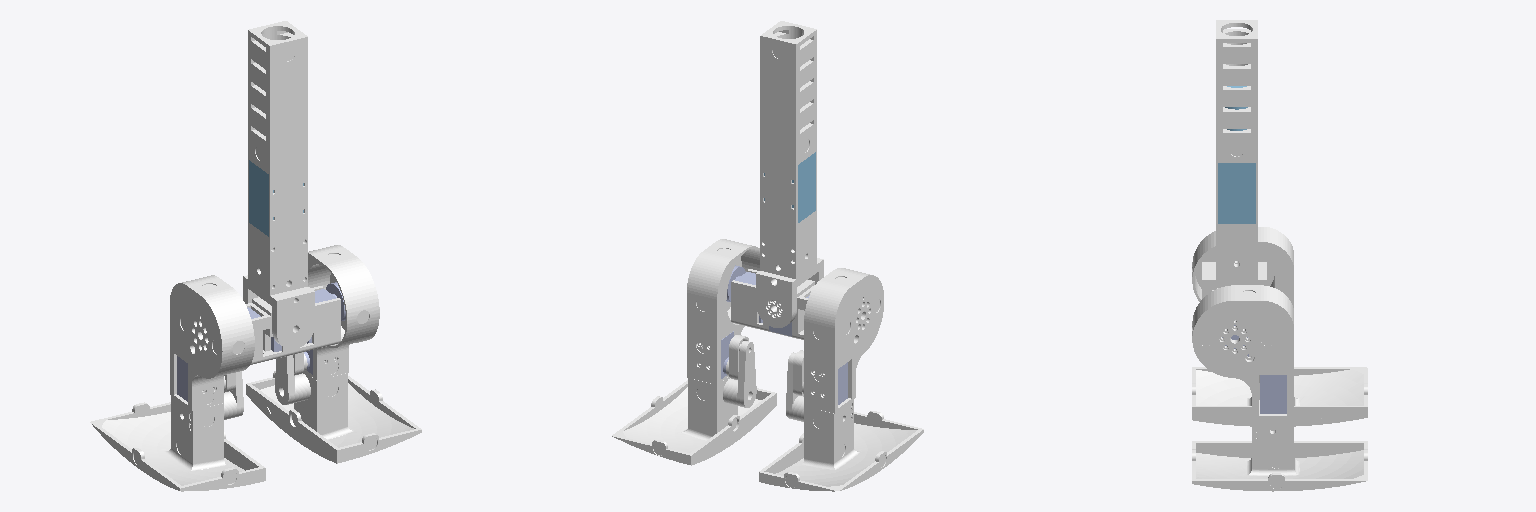
robot.urdf — pengu1_05:
<?xml version="1.0" ?>
<!-- Generated using onshape-to-robot -->
<!-- Onshape https://cad.onshape.com/documents/af9a366decc160f668eeab8a/w/240dda95e8c00a87d53a39cb/e/3a00180f1f1236d2a817e06b -->
<robot name="pengu1_05">
  <!-- Link leftthighmotor -->
  <link name="leftthighmotor">
    <inertial>
      <origin xyz="-0.0738509 0.0105397 -0.0475118" rpy="0 0 0"/>
      <mass value="0.207745"/>
      <inertia ixx="0.000560286" ixy="-1.37754e-05" ixz="2.42754e-05" iyy="0.000484471" iyz="6.34348e-05" izz="0.000126076"/>
    </inertial>
    <!-- Part easymotor -->
    <visual>
      <origin xyz="-0.08825 0.03128 -0.0885124" rpy="0 -2.718e-09 -1.5708"/>
      <geometry>
        <mesh filename="package://assets/easymotor.stl"/>
      </geometry>
      <material name="easymotor_material">
        <color rgba="0.796078 0.823529 0.937255 1"/>
      </material>
    </visual>
    <collision>
      <origin xyz="-0.08825 0.03128 -0.0885124" rpy="0 -2.718e-09 -1.5708"/>
      <geometry>
        <mesh filename="package://assets/easymotor.stl"/>
      </geometry>
    </collision>
    <!-- Part left_thigh -->
    <visual>
      <origin xyz="-0.0799204 -0.0680094 -0.0260901" rpy="1.5708 0 -3.14159"/>
      <geometry>
        <mesh filename="package://assets/left_thigh.stl"/>
      </geometry>
      <material name="left_thigh_material">
        <color rgba="1 1 1 1"/>
      </material>
    </visual>
    <collision>
      <origin xyz="-0.0799204 -0.0680094 -0.0260901" rpy="1.5708 0 -3.14159"/>
      <geometry>
        <mesh filename="package://assets/left_thigh.stl"/>
      </geometry>
    </collision>
  </link>
  <!-- Link easyaxis -->
  <link name="easyaxis">
    <inertial>
      <origin xyz="-0.0102715 0.000501152 -0.06925" rpy="0 0 0"/>
      <mass value="0.345637"/>
      <inertia ixx="0.000733205" ixy="6.32805e-07" ixz="-0" iyy="0.000773915" iyz="0" izz="0.000118176"/>
    </inertial>
    <!-- Part pengu2axis010 -->
    <visual>
      <origin xyz="0.0165 0.0195 -0.04875" rpy="1.5708 1.5708 0"/>
      <geometry>
        <mesh filename="package://assets/pengu2axis010.stl"/>
      </geometry>
      <material name="pengu2axis010_material">
        <color rgba="1 1 1 1"/>
      </material>
    </visual>
    <collision>
      <origin xyz="0.0165 0.0195 -0.04875" rpy="1.5708 1.5708 0"/>
      <geometry>
        <mesh filename="package://assets/pengu2axis010.stl"/>
      </geometry>
    </collision>
    <!-- Part easymotorwithconnector -->
    <visual>
      <origin xyz="0.011 -0.01425 -0.0965" rpy="-1.5708 -0 1.5708"/>
      <geometry>
        <mesh filename="package://assets/easymotorwithconnector.stl"/>
      </geometry>
      <material name="easymotorwithconnector_material">
        <color rgba="0.796078 0.823529 0.937255 1"/>
      </material>
    </visual>
    <collision>
      <origin xyz="0.011 -0.01425 -0.0965" rpy="-1.5708 -0 1.5708"/>
      <geometry>
        <mesh filename="package://assets/easymotorwithconnector.stl"/>
      </geometry>
    </collision>
    <!-- Part easymotorwithconnector_2 -->
    <visual>
      <origin xyz="0.011 0.01425 -0.042" rpy="1.5708 -0 -1.5708"/>
      <geometry>
        <mesh filename="package://assets/easymotorwithconnector.stl"/>
      </geometry>
      <material name="easymotorwithconnector_2_material">
        <color rgba="0.796078 0.823529 0.937255 1"/>
      </material>
    </visual>
    <collision>
      <origin xyz="0.011 0.01425 -0.042" rpy="1.5708 -0 -1.5708"/>
      <geometry>
        <mesh filename="package://assets/easymotorwithconnector.stl"/>
      </geometry>
    </collision>
    <!-- Part easymotor_2 -->
    <visual>
      <origin xyz="0.011 -0.01478 -0.0835" rpy="-2.718e-09 -1.5708 0"/>
      <geometry>
        <mesh filename="package://assets/easymotor.stl"/>
      </geometry>
      <material name="easymotor_2_material">
        <color rgba="0.796078 0.823529 0.937255 1"/>
      </material>
    </visual>
    <collision>
      <origin xyz="0.011 -0.01478 -0.0835" rpy="-2.718e-09 -1.5708 0"/>
      <geometry>
        <mesh filename="package://assets/easymotor.stl"/>
      </geometry>
    </collision>
  </link>
  <!-- Link rightthighmotor -->
  <link name="rightthighmotor">
    <inertial>
      <origin xyz="0.0336636 -0.0475118 -0.000899096" rpy="0 0 0"/>
      <mass value="0.207745"/>
      <inertia ixx="0.000484471" ixy="6.30739e-05" ixz="1.37137e-05" iyy="0.00012582" iyz="-2.42754e-05" izz="0.00056003"/>
    </inertial>
    <!-- Part easymotor_3 -->
    <visual>
      <origin xyz="0.02575 -0.0885124 0.0135" rpy="-1.5708 -0 -4.905e-09"/>
      <geometry>
        <mesh filename="package://assets/easymotor.stl"/>
      </geometry>
      <material name="easymotor_3_material">
        <color rgba="0.796078 0.823529 0.937255 1"/>
      </material>
    </visual>
    <collision>
      <origin xyz="0.02575 -0.0885124 0.0135" rpy="-1.5708 -0 -4.905e-09"/>
      <geometry>
        <mesh filename="package://assets/easymotor.stl"/>
      </geometry>
    </collision>
    <!-- Part right_thigh -->
    <visual>
      <origin xyz="-0 0 0.0155" rpy="4.905e-09 1.5708 0"/>
      <geometry>
        <mesh filename="package://assets/right_thigh.stl"/>
      </geometry>
      <material name="right_thigh_material">
        <color rgba="1 1 1 1"/>
      </material>
    </visual>
    <collision>
      <origin xyz="-0 0 0.0155" rpy="4.905e-09 1.5708 0"/>
      <geometry>
        <mesh filename="package://assets/right_thigh.stl"/>
      </geometry>
    </collision>
  </link>
  <!-- Link right_foot0080 -->
  <link name="right_foot0080">
    <inertial>
      <origin xyz="0.00309728 -0.00816562 -0.0519937" rpy="0 0 0"/>
      <mass value="0.149685"/>
      <inertia ixx="0.000166324" ixy="1.24008e-06" ixz="2.46733e-06" iyy="0.000359285" iyz="-8.22166e-06" izz="0.000426047"/>
    </inertial>
    <!-- Part right_foot0080 -->
    <visual>
      <origin xyz="-0.000764396 0.032498 0.0472219" rpy="-1.5708 -1.5708 0"/>
      <geometry>
        <mesh filename="package://assets/right_foot0080.stl"/>
      </geometry>
      <material name="right_foot0080_material">
        <color rgba="1 1 1 1"/>
      </material>
    </visual>
    <collision>
      <origin xyz="-0.000764396 0.032498 0.0472219" rpy="-1.5708 -1.5708 0"/>
      <geometry>
        <mesh filename="package://assets/right_foot0080.stl"/>
      </geometry>
    </collision>
  </link>
  <!-- Frame closing_crank3-R_2 (dummy link + fixed joint) -->
  <link name="closing_crank3-R_2">
    <origin xyz="0 0 0" rpy="0 -0 0"/>
    <inertial>
      <origin xyz="0 0 0" rpy="0 0 0"/>
      <mass value="1e-9"/>
      <inertia ixx="0" ixy="0" ixz="0" iyy="0" iyz="0" izz="0"/>
    </inertial>
  </link>
  <joint name="closing_crank3-R_2_frame" type="fixed">
    <origin xyz="-0.000764396 0.0222 -0.01511" rpy="1.5708 -0 0"/>
    <parent link="right_foot0080"/>
    <child link="closing_crank3-R_2"/>
    <axis xyz="0 0 0"/>
  </joint>
  <!-- Frame closing_crank3-R_2_z (dummy link + fixed joint) -->
  <link name="closing_crank3-R_2_z">
    <origin xyz="0 0 0" rpy="0 -0 0"/>
    <inertial>
      <origin xyz="0 0 0" rpy="0 0 0"/>
      <mass value="1e-9"/>
      <inertia ixx="0" ixy="0" ixz="0" iyy="0" iyz="0" izz="0"/>
    </inertial>
  </link>
  <joint name="closing_crank3-R_2_z_frame" type="fixed">
    <origin xyz="-0.000764396 -0.0778 -0.01511" rpy="1.5708 -0 0"/>
    <parent link="right_foot0080"/>
    <child link="closing_crank3-R_2_z"/>
    <axis xyz="0 0 0"/>
  </joint>
  <!-- Joint from rightthighmotor to right_foot0080 -->
  <joint name="slider-R" type="prismatic">
    <origin xyz="0.04054 -0.0916416 -0.000350003" rpy="-1.5708 -0 -4.905e-09"/>
    <parent link="rightthighmotor"/>
    <child link="right_foot0080"/>
    <axis xyz="0 0 1"/>
    <limit effort="10" velocity="10" lower="-0.0498709" upper="0.000129139"/>
  </joint>
  <!-- Link crank_circle -->
  <link name="crank_circle">
    <inertial>
      <origin xyz="8.03408e-05 0.010368 -0.0087438" rpy="0 0 0"/>
      <mass value="0.0199581"/>
      <inertia ixx="3.81655e-06" ixy="-1.8264e-08" ixz="5.55e-10" iyy="1.45975e-06" iyz="7.1615e-08" izz="4.66294e-06"/>
    </inertial>
    <!-- Part crank_circle -->
    <visual>
      <origin xyz="-0 0 -0.009" rpy="0.00774877 1.5708 0"/>
      <geometry>
        <mesh filename="package://assets/crank_circle.stl"/>
      </geometry>
      <material name="crank_circle_material">
        <color rgba="1 1 1 1"/>
      </material>
    </visual>
    <collision>
      <origin xyz="-0 0 -0.009" rpy="0.00774877 1.5708 0"/>
      <geometry>
        <mesh filename="package://assets/crank_circle.stl"/>
      </geometry>
    </collision>
  </link>
  <!-- Link crank_link -->
  <link name="crank_link">
    <inertial>
      <origin xyz="-0.0398252 -1.59698e-06 -0.0065882" rpy="0 0 0"/>
      <mass value="0.0249476"/>
      <inertia ixx="2.34462e-06" ixy="-3.66e-10" ixz="1.45213e-06" iyy="1.14674e-05" iyz="5.8e-11" izz="1.17005e-05"/>
    </inertial>
    <!-- Part crank_link -->
    <visual>
      <origin xyz="0 0 -0.00705" rpy="1.57076 1.5708 0"/>
      <geometry>
        <mesh filename="package://assets/crank_link.stl"/>
      </geometry>
      <material name="crank_link_material">
        <color rgba="1 1 1 1"/>
      </material>
    </visual>
    <collision>
      <origin xyz="0 0 -0.00705" rpy="1.57076 1.5708 0"/>
      <geometry>
        <mesh filename="package://assets/crank_link.stl"/>
      </geometry>
    </collision>
  </link>
  <!-- Frame closing_crank3-R_1 (dummy link + fixed joint) -->
  <link name="closing_crank3-R_1">
    <origin xyz="0 0 0" rpy="0 -0 0"/>
    <inertial>
      <origin xyz="0 0 0" rpy="0 0 0"/>
      <mass value="1e-9"/>
      <inertia ixx="0" ixy="0" ixz="0" iyy="0" iyz="0" izz="0"/>
    </inertial>
  </link>
  <joint name="closing_crank3-R_1_frame" type="fixed">
    <origin xyz="-0.05424 -2.17501e-06 0.01095" rpy="0 0 4.00998e-05"/>
    <parent link="crank_link"/>
    <child link="closing_crank3-R_1"/>
    <axis xyz="0 0 0"/>
  </joint>
  <!-- Frame closing_crank3-R_1_z (dummy link + fixed joint) -->
  <link name="closing_crank3-R_1_z">
    <origin xyz="0 0 0" rpy="0 -0 0"/>
    <inertial>
      <origin xyz="0 0 0" rpy="0 0 0"/>
      <mass value="1e-9"/>
      <inertia ixx="0" ixy="0" ixz="0" iyy="0" iyz="0" izz="0"/>
    </inertial>
  </link>
  <joint name="closing_crank3-R_1_z_frame" type="fixed">
    <origin xyz="-0.05424 -2.17501e-06 0.11095" rpy="0 0 4.00998e-05"/>
    <parent link="crank_link"/>
    <child link="closing_crank3-R_1_z"/>
    <axis xyz="0 0 0"/>
  </joint>
  <!-- Joint from crank_circle to crank_link -->
  <joint name="crank1-R" type="revolute">
    <origin xyz="0.000193717 0.0249992 -0.009" rpy="0 -0 1.56305"/>
    <parent link="crank_circle"/>
    <child link="crank_link"/>
    <axis xyz="0 0 1"/>
    <limit effort="10" velocity="10" lower="-3.141592653589793" upper="3.141592653589793"/>
  </joint>
  <!-- Joint from rightthighmotor to crank_circle -->
  <joint name="crank2_R" type="revolute">
    <origin xyz="0.04 -0.0775124 -0.0245" rpy="0 -0 -4.905e-09"/>
    <parent link="rightthighmotor"/>
    <child link="crank_circle"/>
    <axis xyz="0 0 1"/>
    <limit effort="10" velocity="10" lower="-3.141592653589793" upper="3.141592653589793"/>
  </joint>
  <!-- Joint from easyaxis to rightthighmotor -->
  <joint name="hip-R" type="revolute">
    <origin xyz="-0 0 -0.144" rpy="-3.14159 -0 1.5708"/>
    <parent link="easyaxis"/>
    <child link="rightthighmotor"/>
    <axis xyz="0 0 1"/>
    <limit effort="10" velocity="10" lower="-3.141592653589793" upper="3.141592653589793"/>
  </joint>
  <!-- Link easytorso -->
  <link name="easytorso">
    <inertial>
      <origin xyz="1.989e-09 -0.141397 0.0215938" rpy="0 0 0"/>
      <mass value="0.622085"/>
      <inertia ixx="0.00384266" ixy="-1.09e-10" ixz="1.4e-11" iyy="0.000245072" iyz="-2.49595e-05" izz="0.00382049"/>
    </inertial>
    <!-- Part part_1 -->
    <visual>
      <origin xyz="-0.0225 -0.17175 0.0412769" rpy="1.5708 0 1.5708"/>
      <geometry>
        <mesh filename="package://assets/part_1.stl"/>
      </geometry>
      <material name="part_1_material">
        <color rgba="0.615686 0.811765 0.929412 1"/>
      </material>
    </visual>
    <collision>
      <origin xyz="-0.0225 -0.17175 0.0412769" rpy="1.5708 0 1.5708"/>
      <geometry>
        <mesh filename="package://assets/part_1.stl"/>
      </geometry>
    </collision>
    <!-- Part part_1_2 -->
    <visual>
      <origin xyz="-0 -0.25175 0.0212769" rpy="1.5708 0 3.14159"/>
      <geometry>
        <mesh filename="package://assets/part_1__2.stl"/>
      </geometry>
      <material name="part_1_2_material">
        <color rgba="0.615686 0.811765 0.929412 1"/>
      </material>
    </visual>
    <collision>
      <origin xyz="-0 -0.25175 0.0212769" rpy="1.5708 0 3.14159"/>
      <geometry>
        <mesh filename="package://assets/part_1__2.stl"/>
      </geometry>
    </collision>
    <!-- Part part_1_3 -->
    <visual>
      <origin xyz="0.0225 -0.10175 0.0412769" rpy="1.5708 -0 -1.5708"/>
      <geometry>
        <mesh filename="package://assets/part_1.stl"/>
      </geometry>
      <material name="part_1_3_material">
        <color rgba="0.615686 0.811765 0.929412 1"/>
      </material>
    </visual>
    <collision>
      <origin xyz="0.0225 -0.10175 0.0412769" rpy="1.5708 -0 -1.5708"/>
      <geometry>
        <mesh filename="package://assets/part_1.stl"/>
      </geometry>
    </collision>
    <!-- Part torso -->
    <visual>
      <origin xyz="-0.0225 -0.31675 -0.00122307" rpy="-1.5708 -0 0"/>
      <geometry>
        <mesh filename="package://assets/torso.stl"/>
      </geometry>
      <material name="torso_material">
        <color rgba="1 1 1 1"/>
      </material>
    </visual>
    <collision>
      <origin xyz="-0.0225 -0.31675 -0.00122307" rpy="-1.5708 -0 0"/>
      <geometry>
        <mesh filename="package://assets/torso.stl"/>
      </geometry>
    </collision>
    <!-- Part bracketmotorside -->
    <visual>
      <origin xyz="0.0225 -0.02675 -0.01" rpy="-1.5708 0 3.14159"/>
      <geometry>
        <mesh filename="package://assets/bracketmotorside.stl"/>
      </geometry>
      <material name="bracketmotorside_material">
        <color rgba="1 1 1 1"/>
      </material>
    </visual>
    <collision>
      <origin xyz="0.0225 -0.02675 -0.01" rpy="-1.5708 0 3.14159"/>
      <geometry>
        <mesh filename="package://assets/bracketmotorside.stl"/>
      </geometry>
    </collision>
    <!-- Part bracketbearingside -->
    <visual>
      <origin xyz="0.0225 -0.0267252 -0.01" rpy="-1.5708 0 3.14159"/>
      <geometry>
        <mesh filename="package://assets/bracketbearingside.stl"/>
      </geometry>
      <material name="bracketbearingside_material">
        <color rgba="1 1 1 1"/>
      </material>
    </visual>
    <collision>
      <origin xyz="0.0225 -0.0267252 -0.01" rpy="-1.5708 0 3.14159"/>
      <geometry>
        <mesh filename="package://assets/bracketbearingside.stl"/>
      </geometry>
    </collision>
  </link>
  <!-- Joint from easyaxis to easytorso -->
  <joint name="torso" type="revolute">
    <origin xyz="6.3e-11 0.02322 -0.06925" rpy="1.5708 -1.5708 0"/>
    <parent link="easyaxis"/>
    <child link="easytorso"/>
    <axis xyz="0 0 1"/>
    <limit effort="10" velocity="10" lower="-3.141592653589793" upper="3.141592653589793"/>
  </joint>
  <!-- Joint from leftthighmotor to easyaxis -->
  <joint name="hip-L" type="revolute">
    <origin xyz="-0.06925 -0.02322 0" rpy="0 -1.5708 0"/>
    <parent link="leftthighmotor"/>
    <child link="easyaxis"/>
    <axis xyz="0 0 1"/>
    <limit effort="10" velocity="10" lower="-3.141592653589793" upper="3.141592653589793"/>
  </joint>
  <!-- Link right_foot0080___fillet13 -->
  <link name="right_foot0080___fillet13">
    <inertial>
      <origin xyz="0.00809087 -0.00363118 -0.0521227" rpy="0 0 0"/>
      <mass value="0.149685"/>
      <inertia ixx="0.000359248" ixy="1.24152e-06" ixz="8.21368e-06" iyy="0.000166321" iyz="-2.46625e-06" izz="0.000426014"/>
    </inertial>
    <!-- Part right_foot0080___fillet13 -->
    <visual>
      <origin xyz="-0.04257 0.00023 0.047094" rpy="3.14159 -1.5708 0"/>
      <geometry>
        <mesh filename="package://assets/right_foot0080___fillet13.stl"/>
      </geometry>
      <material name="right_foot0080___fillet13_material">
        <color rgba="1 1 1 1"/>
      </material>
    </visual>
    <collision>
      <origin xyz="-0.04257 0.00023 0.047094" rpy="3.14159 -1.5708 0"/>
      <geometry>
        <mesh filename="package://assets/right_foot0080___fillet13.stl"/>
      </geometry>
    </collision>
  </link>
  <!-- Frame closing_crank3-L_2 (dummy link + fixed joint) -->
  <link name="closing_crank3-L_2">
    <origin xyz="0 0 0" rpy="0 -0 0"/>
    <inertial>
      <origin xyz="0 0 0" rpy="0 0 0"/>
      <mass value="1e-9"/>
      <inertia ixx="0" ixy="0" ixz="0" iyy="0" iyz="0" izz="0"/>
    </inertial>
  </link>
  <joint name="closing_crank3-L_2_frame" type="fixed">
    <origin xyz="-0.0222673 0.00023 -0.0152379" rpy="3.14159 -1.5708 0"/>
    <parent link="right_foot0080___fillet13"/>
    <child link="closing_crank3-L_2"/>
    <axis xyz="0 0 0"/>
  </joint>
  <!-- Frame closing_crank3-L_2_z (dummy link + fixed joint) -->
  <link name="closing_crank3-L_2_z">
    <origin xyz="0 0 0" rpy="0 -0 0"/>
    <inertial>
      <origin xyz="0 0 0" rpy="0 0 0"/>
      <mass value="1e-9"/>
      <inertia ixx="0" ixy="0" ixz="0" iyy="0" iyz="0" izz="0"/>
    </inertial>
  </link>
  <joint name="closing_crank3-L_2_z_frame" type="fixed">
    <origin xyz="0.0777327 0.00023 -0.0152379" rpy="3.14159 -1.5708 0"/>
    <parent link="right_foot0080___fillet13"/>
    <child link="closing_crank3-L_2_z"/>
    <axis xyz="0 0 0"/>
  </joint>
  <!-- Joint from leftthighmotor to right_foot0080___fillet13 -->
  <joint name="slider-L" type="prismatic">
    <origin xyz="-0.0744673 0.01678 -0.0915124" rpy="2.718e-09 0 -3.14159"/>
    <parent link="leftthighmotor"/>
    <child link="right_foot0080___fillet13"/>
    <axis xyz="0 0 1"/>
    <limit effort="10" velocity="10" lower="-0.0498721" upper="0.000127876"/>
  </joint>
  <!-- Link crank_circle_2 -->
  <link name="crank_circle_2">
    <inertial>
      <origin xyz="0.0103683 -0 -0.0087438" rpy="0 0 0"/>
      <mass value="0.0199581"/>
      <inertia ixx="1.45961e-06" ixy="0" ixz="7.1617e-08" iyy="3.81669e-06" iyz="-0" izz="4.66294e-06"/>
    </inertial>
    <!-- Part crank_circle_2 -->
    <visual>
      <origin xyz="0 -0 -0.009" rpy="1.5708 1.5708 0"/>
      <geometry>
        <mesh filename="package://assets/crank_circle.stl"/>
      </geometry>
      <material name="crank_circle_2_material">
        <color rgba="1 1 1 1"/>
      </material>
    </visual>
    <collision>
      <origin xyz="0 -0 -0.009" rpy="1.5708 1.5708 0"/>
      <geometry>
        <mesh filename="package://assets/crank_circle.stl"/>
      </geometry>
    </collision>
  </link>
  <!-- Link crank_link_2 -->
  <link name="crank_link_2">
    <inertial>
      <origin xyz="-0.0398237 -0.000352435 -0.0065882" rpy="0 0 0"/>
      <mass value="0.0249476"/>
      <inertia ixx="2.34533e-06" ixy="-8.073e-08" ixz="1.45208e-06" iyy="1.14667e-05" iyz="1.2851e-08" izz="1.17005e-05"/>
    </inertial>
    <!-- Part crank_link_2 -->
    <visual>
      <origin xyz="-0 0 -0.00705" rpy="1.56195 1.5708 0"/>
      <geometry>
        <mesh filename="package://assets/crank_link.stl"/>
      </geometry>
      <material name="crank_link_2_material">
        <color rgba="1 1 1 1"/>
      </material>
    </visual>
    <collision>
      <origin xyz="-0 0 -0.00705" rpy="1.56195 1.5708 0"/>
      <geometry>
        <mesh filename="package://assets/crank_link.stl"/>
      </geometry>
    </collision>
  </link>
  <!-- Frame closing_crank3-L_1 (dummy link + fixed joint) -->
  <link name="closing_crank3-L_1">
    <origin xyz="0 0 0" rpy="0 -0 0"/>
    <inertial>
      <origin xyz="0 0 0" rpy="0 0 0"/>
      <mass value="1e-9"/>
      <inertia ixx="0" ixy="0" ixz="0" iyy="0" iyz="0" izz="0"/>
    </inertial>
  </link>
  <joint name="closing_crank3-L_1_frame" type="fixed">
    <origin xyz="-0.0542379 -0.00048 0.01095" rpy="0 0 0.00884967"/>
    <parent link="crank_link_2"/>
    <child link="closing_crank3-L_1"/>
    <axis xyz="0 0 0"/>
  </joint>
  <!-- Frame closing_crank3-L_1_z (dummy link + fixed joint) -->
  <link name="closing_crank3-L_1_z">
    <origin xyz="0 0 0" rpy="0 -0 0"/>
    <inertial>
      <origin xyz="0 0 0" rpy="0 0 0"/>
      <mass value="1e-9"/>
      <inertia ixx="0" ixy="0" ixz="0" iyy="0" iyz="0" izz="0"/>
    </inertial>
  </link>
  <joint name="closing_crank3-L_1_z_frame" type="fixed">
    <origin xyz="-0.0542379 -0.00048 0.11095" rpy="0 0 0.00884967"/>
    <parent link="crank_link_2"/>
    <child link="closing_crank3-L_1_z"/>
    <axis xyz="0 0 0"/>
  </joint>
  <!-- Joint from crank_circle_2 to crank_link_2 -->
  <joint name="crank2-L" type="revolute">
    <origin xyz="0.025 0 -0.009" rpy="-0 0 -0"/>
    <parent link="crank_circle_2"/>
    <child link="crank_link_2"/>
    <axis xyz="0 0 1"/>
    <limit effort="10" velocity="10" lower="-3.141592653589793" upper="3.141592653589793"/>
  </joint>
  <!-- Joint from leftthighmotor to crank_circle_2 -->
  <joint name="crank1-L" type="revolute">
    <origin xyz="-0.05025 0.01703 -0.0775124" rpy="0 -1.5708 0"/>
    <parent link="leftthighmotor"/>
    <child link="crank_circle_2"/>
    <axis xyz="0 0 1"/>
    <limit effort="10" velocity="10" lower="-3.141592653589793" upper="3.141592653589793"/>
  </joint>
</robot>

--- What the picture shows (computed from the rendered views, not written in the file) ---
The picture shows the robot from 3 angles, left to right: view 1: azimuth 30°, elevation 25°; view 2: azimuth 150°, elevation 25°; view 3: azimuth 270°, elevation 25°; orthographic projection.
Robot: pengu1_05 — 18 links, 17 joints (7 revolute, 2 prismatic, 8 fixed); root link leftthighmotor; default pose: every joint at zero.
Visible links, largest first — view 1: easytorso, right_foot0080___fillet13, leftthighmotor, right_foot0080, rightthighmotor, easyaxis, crank_link, crank_link_2; view 2: easytorso, leftthighmotor, right_foot0080___fillet13, right_foot0080, rightthighmotor, easyaxis, crank_link, crank_link_2; view 3: easytorso, rightthighmotor, right_foot0080, right_foot0080___fillet13, leftthighmotor.
Boxes of the visible links, x1=… form: easytorso: x1=243, y1=21, x2=314, y2=349; right_foot0080___fillet13: x1=90, y1=396, x2=265, y2=491; leftthighmotor: x1=170, y1=275, x2=254, y2=410; right_foot0080: x1=246, y1=371, x2=421, y2=463; rightthighmotor: x1=304, y1=245, x2=379, y2=379; easyaxis: x1=246, y1=282, x2=345, y2=364; crank_link: x1=275, y1=355, x2=310, y2=404; crank_link_2: x1=224, y1=371, x2=243, y2=419; easytorso: x1=756, y1=21, x2=823, y2=327; leftthighmotor: x1=804, y1=268, x2=883, y2=413; right_foot0080___fillet13: x1=759, y1=400, x2=923, y2=491; right_foot0080: x1=612, y1=377, x2=776, y2=465; rightthighmotor: x1=687, y1=239, x2=759, y2=384; easyaxis: x1=726, y1=265, x2=814, y2=339; crank_link: x1=723, y1=341, x2=756, y2=407; crank_link_2: x1=786, y1=352, x2=803, y2=421; easytorso: x1=1202, y1=20, x2=1266, y2=298; rightthighmotor: x1=1192, y1=285, x2=1293, y2=429; right_foot0080: x1=1192, y1=418, x2=1367, y2=491; right_foot0080___fillet13: x1=1192, y1=367, x2=1367, y2=426; leftthighmotor: x1=1192, y1=227, x2=1293, y2=307.
Bounding box of the posed robot: 0.2838 × 0.185 × 0.4812 m (x, y, z).
20 mesh visuals loaded from 14 distinct referenced files (14 binary STL).
